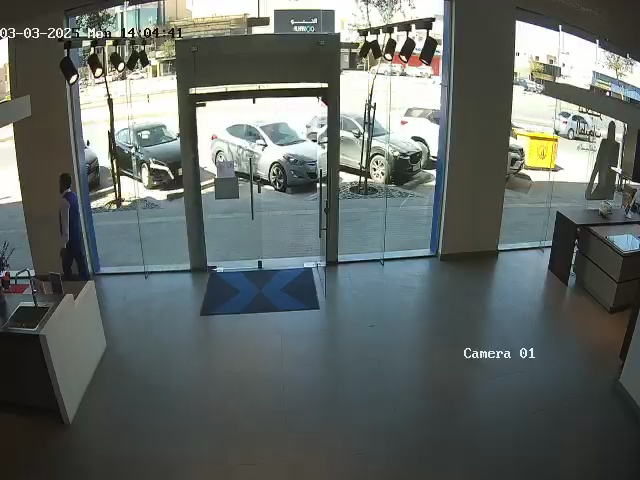employee: (58, 173, 90, 281)
